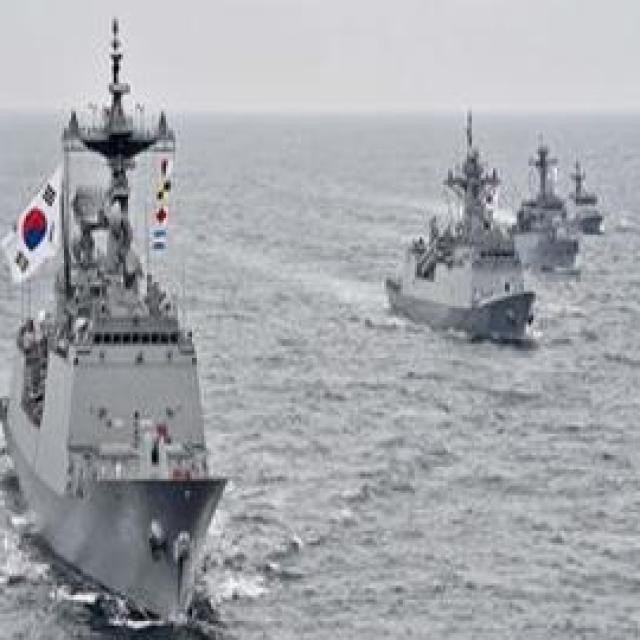navalvessels: (0, 19, 237, 633), (374, 105, 544, 340), (501, 138, 577, 278), (559, 158, 603, 234)
